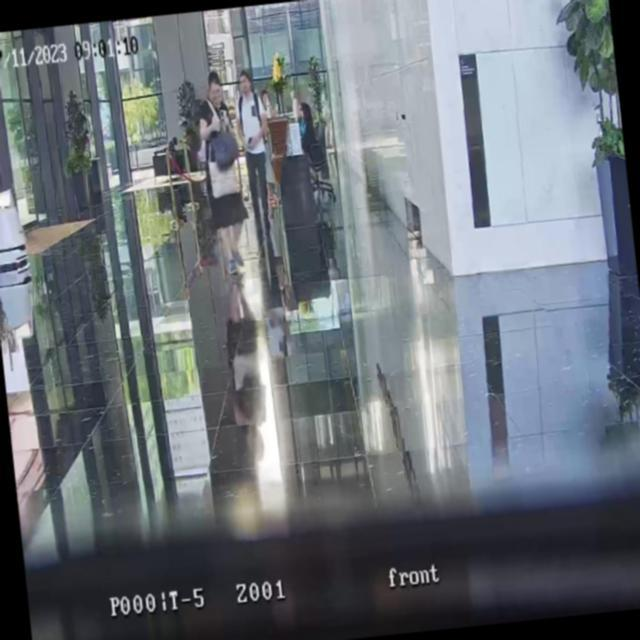person: (190, 69, 254, 280), (232, 66, 282, 261), (291, 88, 320, 168), (296, 100, 320, 164), (164, 134, 182, 167), (260, 88, 276, 120)
